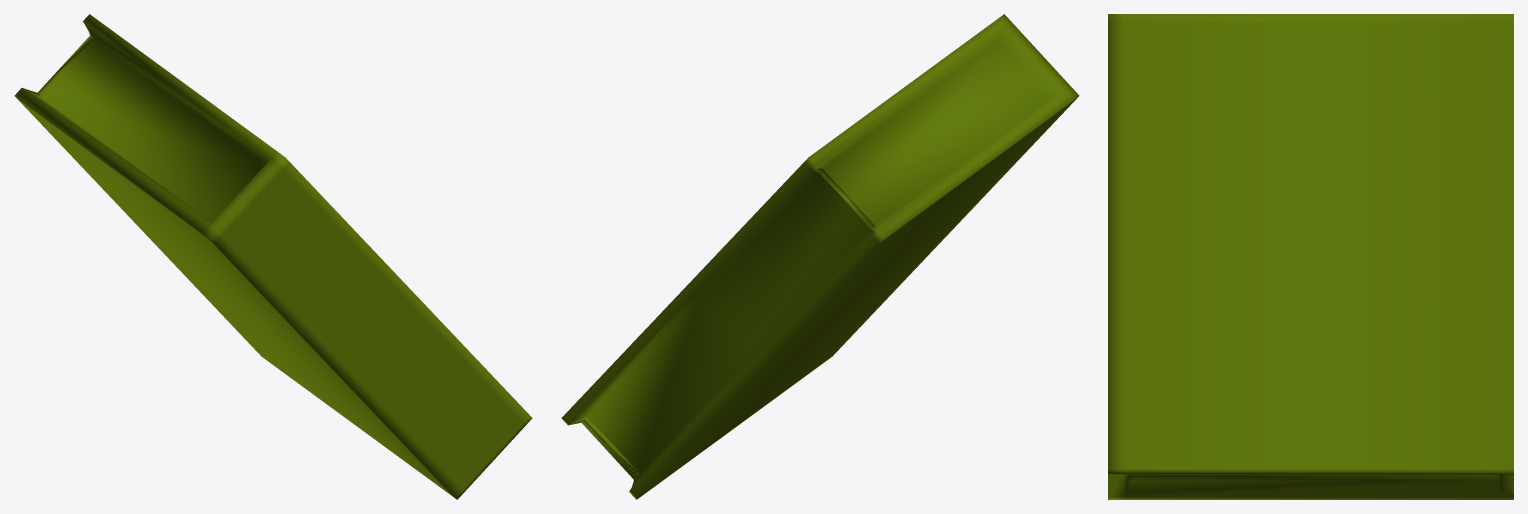
File: K-Book_6.fbx
3 views of the same model, side by side, from view 1: azimuth 30°, elevation 25°; view 2: azimuth 150°, elevation 25°; view 3: azimuth 270°, elevation 25° (orthographic). The views are drawn at different scales.
Visible parts, largest first — view 1: Book.009; view 2: Book.009; view 3: Book.009.
Boxes of the visible parts, <box> form: Book.009: <box>14,14,532,499</box>; Book.009: <box>561,14,1079,499</box>; Book.009: <box>1108,14,1513,499</box>.
Bounding box in the file's own units: 30.74 × 35.03 × 32.31.
